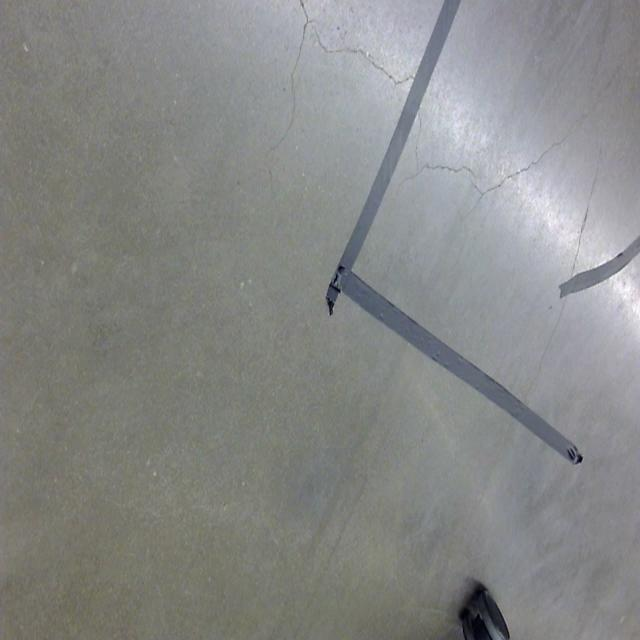tape: (270, 0, 614, 505), (554, 212, 640, 318)
